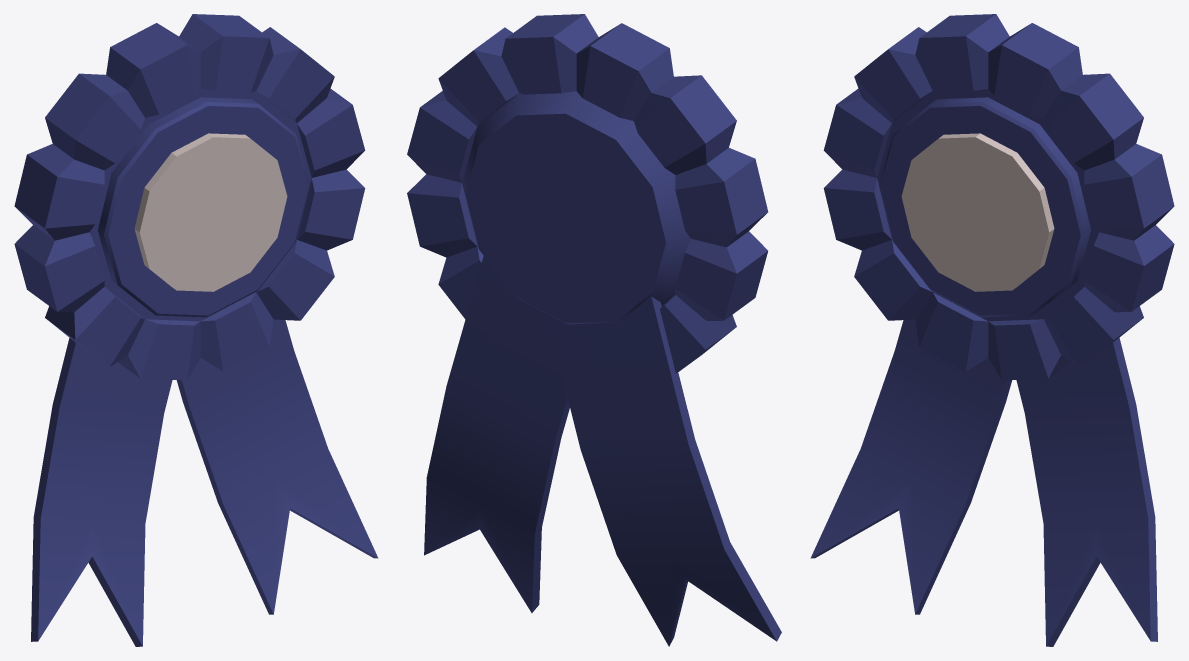
Rendered from Ribbon.fbx.
3 views of the same model, side by side, from view 1: azimuth 30°, elevation 25°; view 2: azimuth 150°, elevation 25°; view 3: azimuth 330°, elevation 25° (orthographic). The views are drawn at different scales.
Visible parts, largest first — view 1: pCylinder4, pPlane33, pPlane32; view 2: pCylinder4, pPlane33, pPlane32; view 3: pCylinder4, pPlane32, pPlane33.
Boxes of the visible parts, x1=… form: pCylinder4: x1=14, y1=14, x2=365, y2=380; pPlane33: x1=31, y1=338, x2=172, y2=646; pPlane32: x1=176, y1=319, x2=378, y2=614; pCylinder4: x1=407, y1=14, x2=768, y2=373; pPlane33: x1=549, y1=296, x2=781, y2=646; pPlane32: x1=424, y1=256, x2=585, y2=612; pCylinder4: x1=823, y1=14, x2=1174, y2=380; pPlane32: x1=1016, y1=338, x2=1157, y2=646; pPlane33: x1=810, y1=319, x2=1012, y2=614.
Size of the model in its own units: 17.41 by 28.73 by 3.94.
